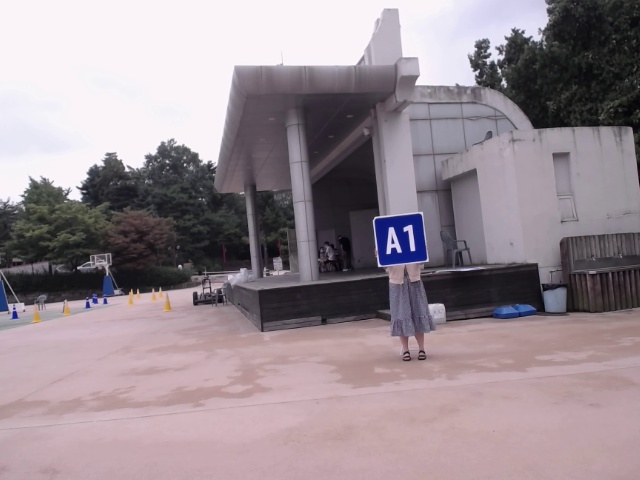delivery_a1: (373, 212, 428, 266)
